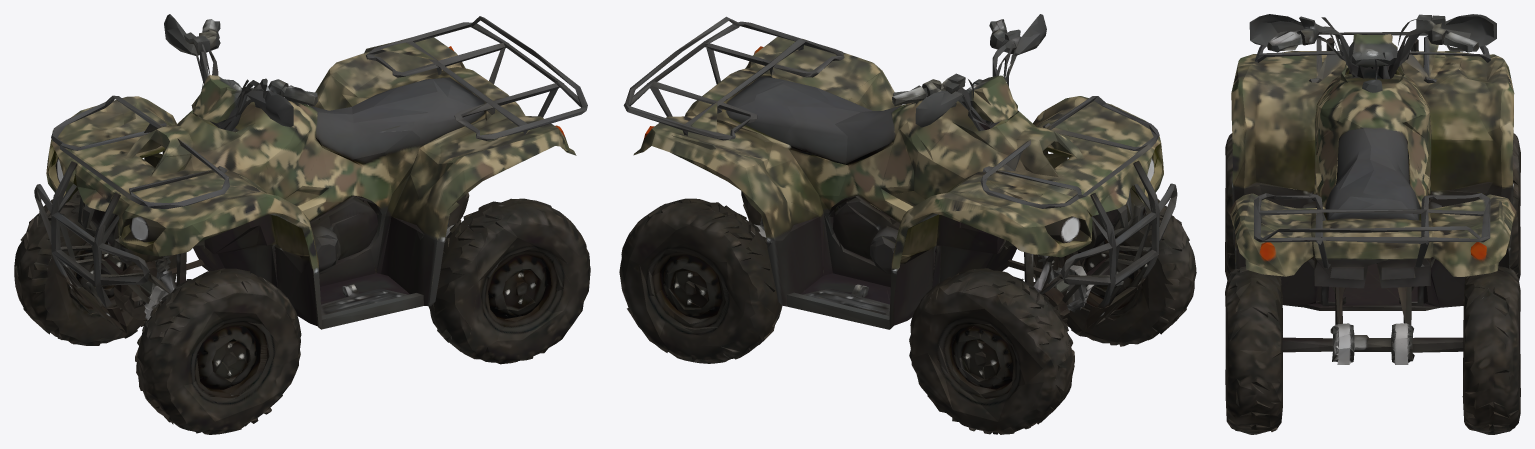
File: quad.glb
3 renders of one model, left to right at view 1: azimuth 30°, elevation 25°; view 2: azimuth 150°, elevation 25°; view 3: azimuth 270°, elevation 25°, orthographic. The views are drawn at different scales.
Parts seen in each view (by area): view 1: geometry_0; view 2: geometry_0; view 3: geometry_0.
Boxes of the visible parts, left/top/right/bottom form: geometry_0: left=14, top=14, right=590, bottom=434; geometry_0: left=619, top=14, right=1196, bottom=434; geometry_0: left=1225, top=14, right=1520, bottom=434.
Bounding box in the file's own units: 1.9 × 1.23 × 1.08.
Materials: 1 (1 with a texture image).
